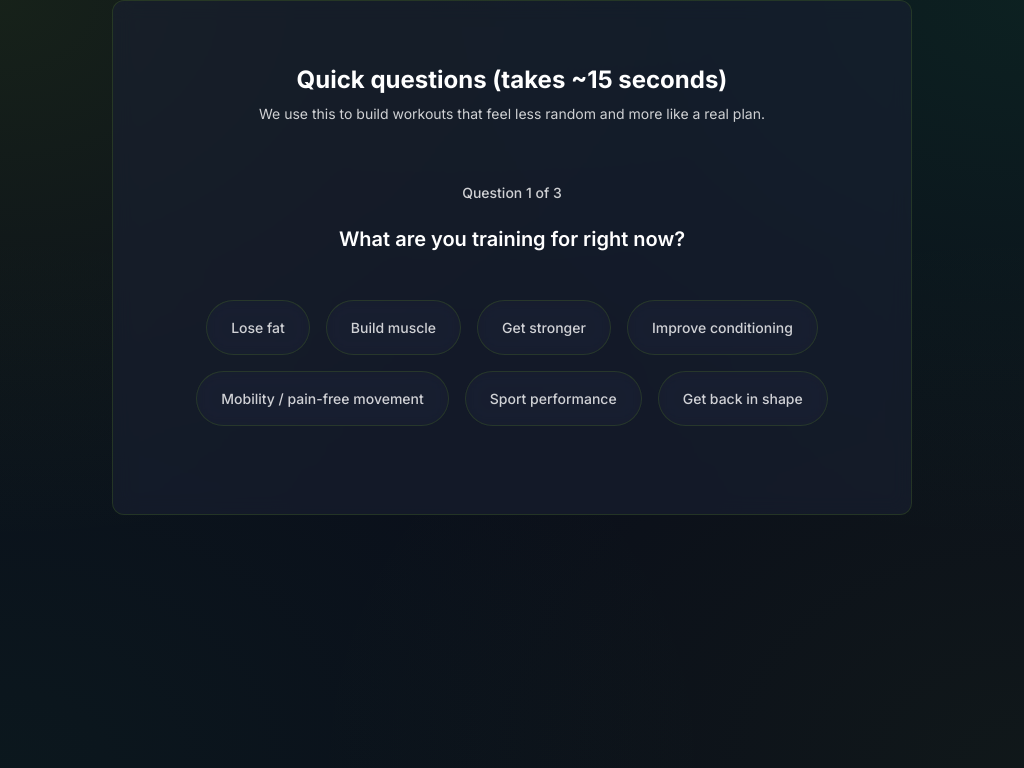
Scenario: MicroInterview › should go back to previous question when back button is clicked
This screenshot has width=1024, height=768.
# Answer Q1
Click the button "Build muscle" at (393, 327), box [326,300,461,355]
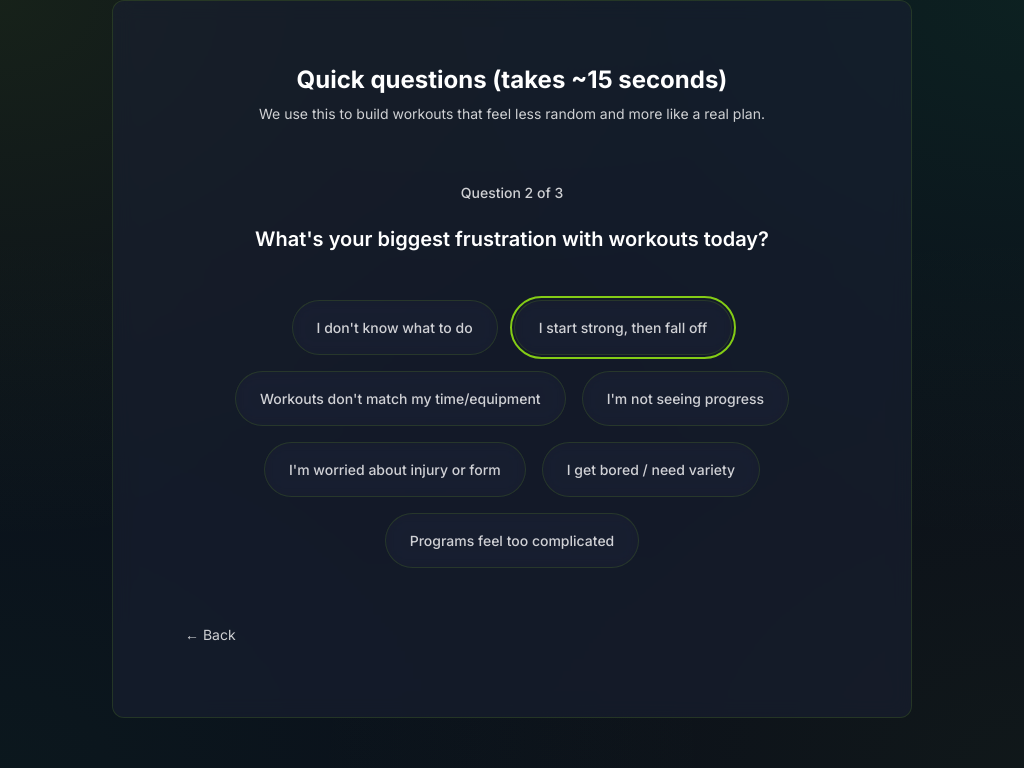
Check: the text "Question 2 of 3" is shown, box [461,184,563,201]
# Answer Q2
Click the button "I don't know what to do" at (395, 327), box [292,300,498,355]
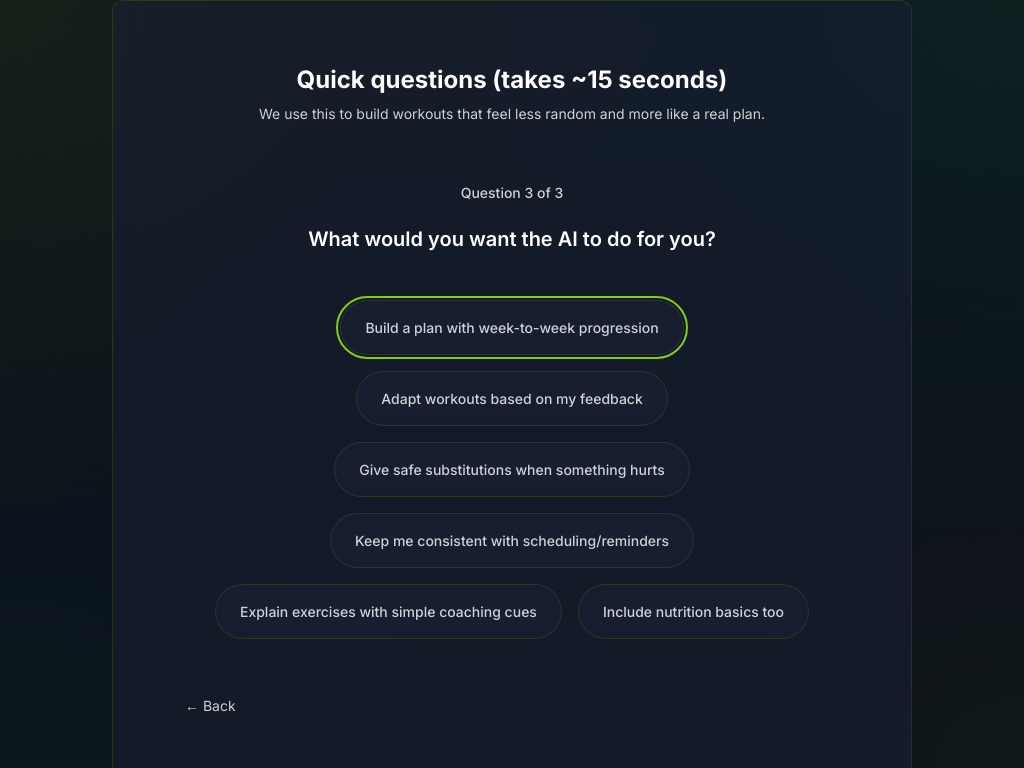
Check: the text "Question 3 of 3" is shown, box [461,184,563,201]
#  Go back
Click the button "← Back" at (210, 705), box [177,687,847,724]
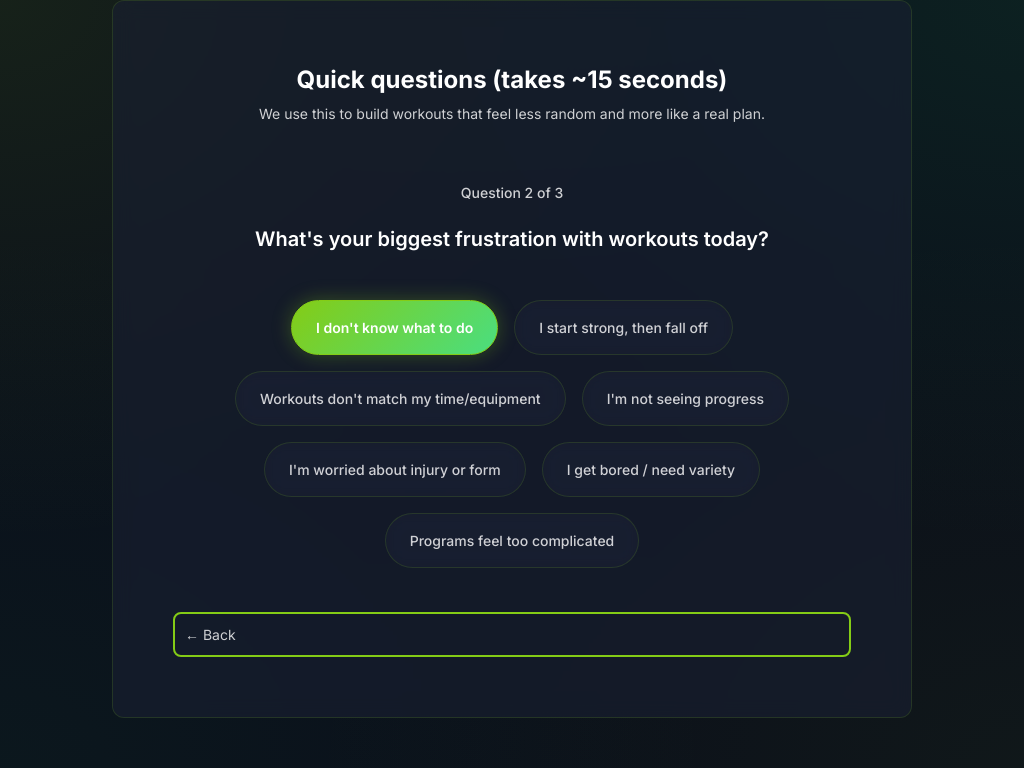
Check: the text "Question 2 of 3" is shown, box [461,184,563,201]
Check: the heading "What's your biggest frustration with workouts today?" is shown, box [255,227,769,251]
